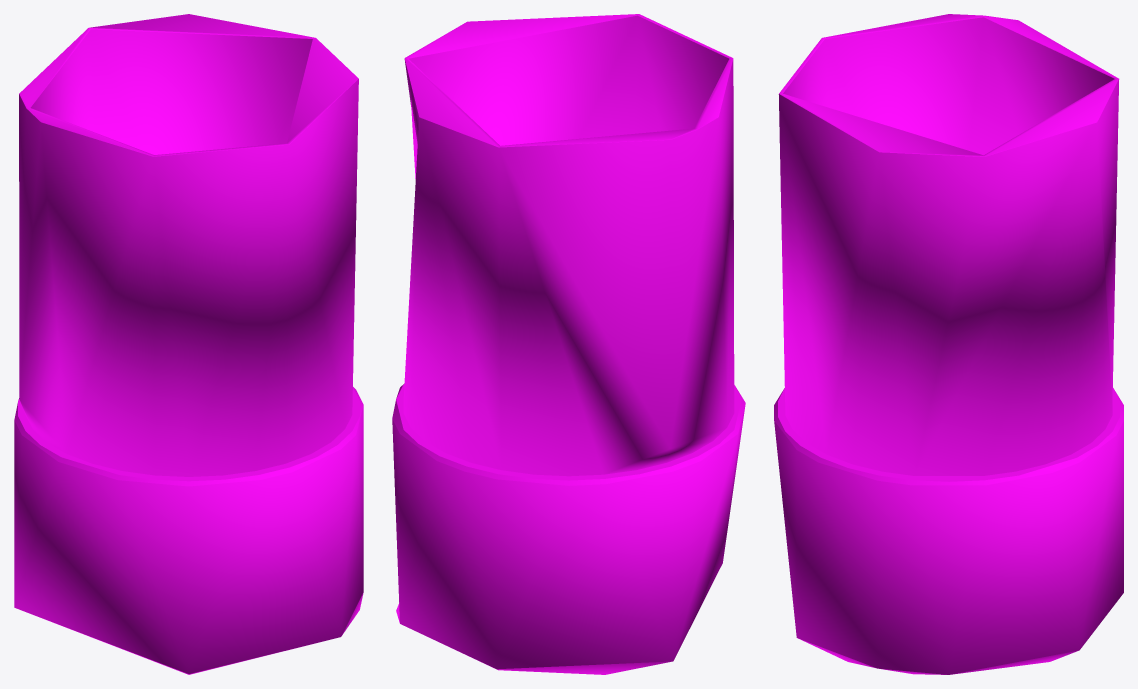
File: B07B8JXP8G.glb
The picture shows the model from 3 angles, left to right: view 1: azimuth 30°, elevation 25°; view 2: azimuth 150°, elevation 25°; view 3: azimuth 270°, elevation 25°; orthographic projection.
Visible parts, largest first — view 1: "$ALMJKNCBNHCAAAAAICBAAAAAAAAAINCBNILA"; view 2: "$ALMJKNCBNHCAAAAAICBAAAAAAAAAINCBNILA"; view 3: "$ALMJKNCBNHCAAAAAICBAAAAAAAAAINCBNILA".
Boxes of the visible parts, box(x1,y1,x2,y2) form: "$ALMJKNCBNHCAAAAAICBAAAAAAAAAINCBNILA": box(14, 14, 363, 674); "$ALMJKNCBNHCAAAAAICBAAAAAAAAAINCBNILA": box(392, 14, 745, 674); "$ALMJKNCBNHCAAAAAICBAAAAAAAAAINCBNILA": box(774, 14, 1123, 674).
Bounding box in the file's own units: 0.1361 × 0.2231 × 0.1368.
